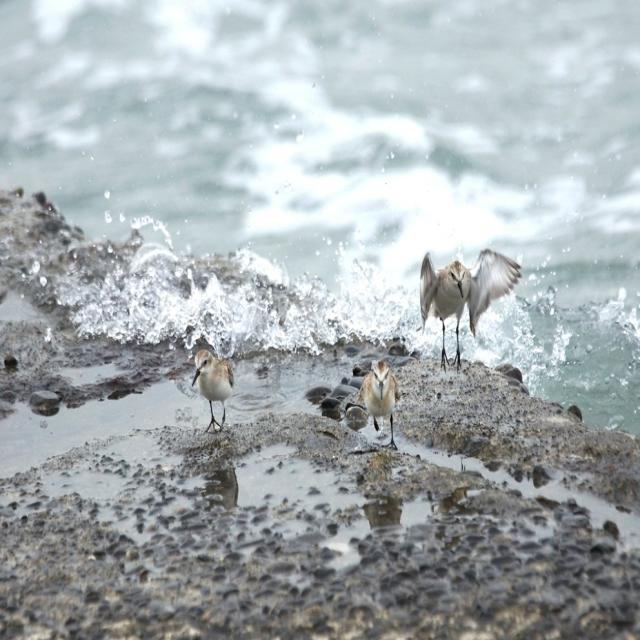bird: (415, 252, 522, 373), (348, 360, 405, 447), (189, 342, 236, 432)
